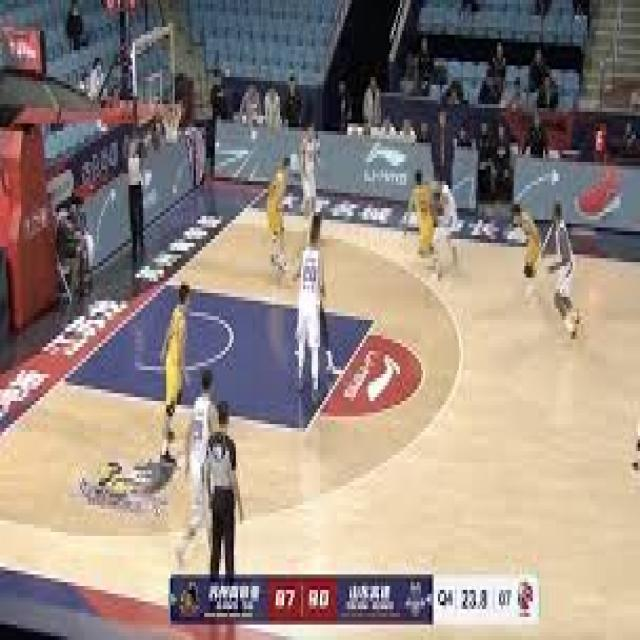rim: (524, 258, 535, 278)
